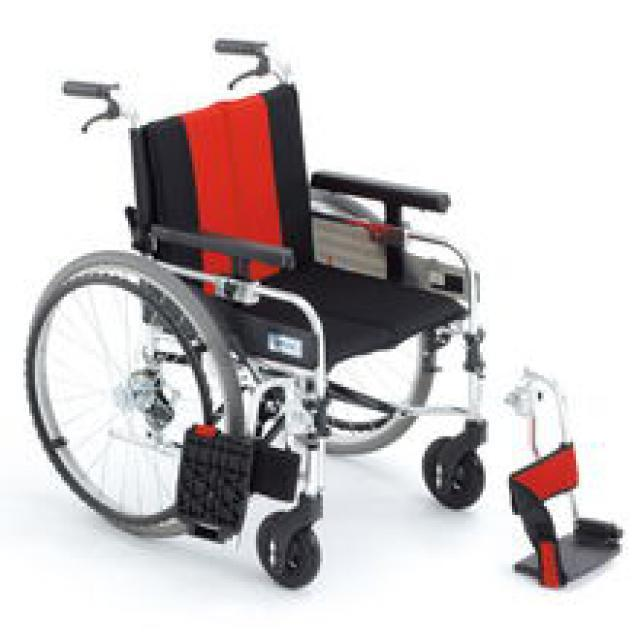wheelchair: (20, 26, 492, 596)
